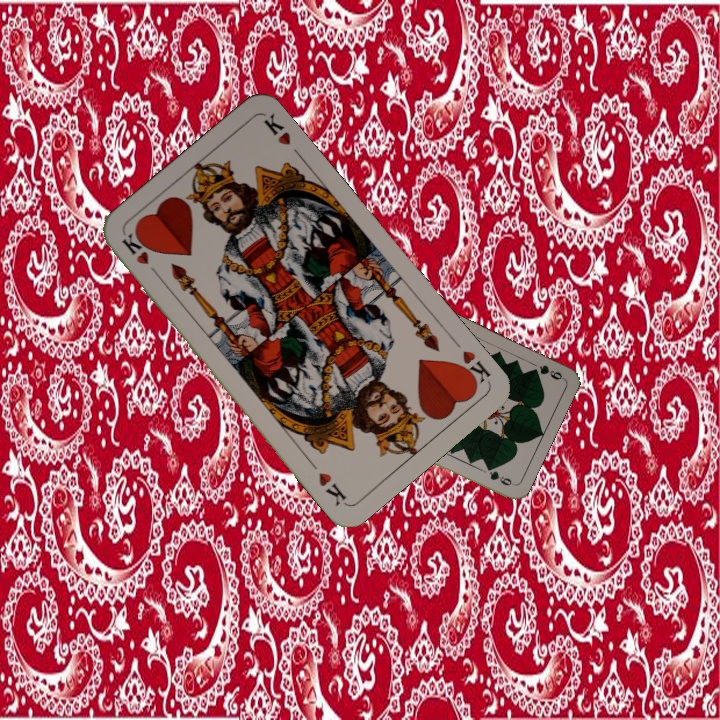G9: (527, 361, 565, 382)
HK: (118, 229, 163, 281), (451, 346, 494, 391)
